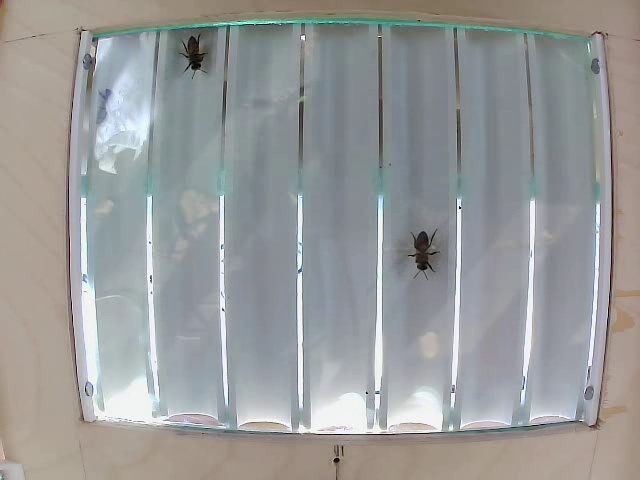bee: (405, 221, 441, 285), (176, 30, 209, 83)
